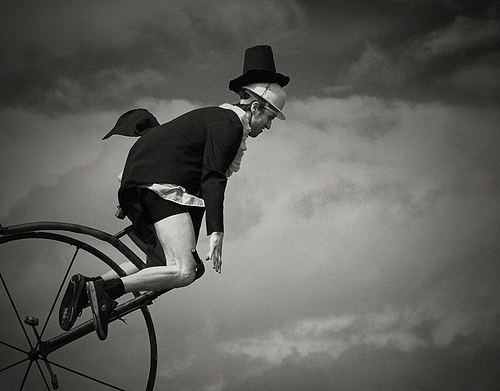helmet: (238, 78, 289, 113)
